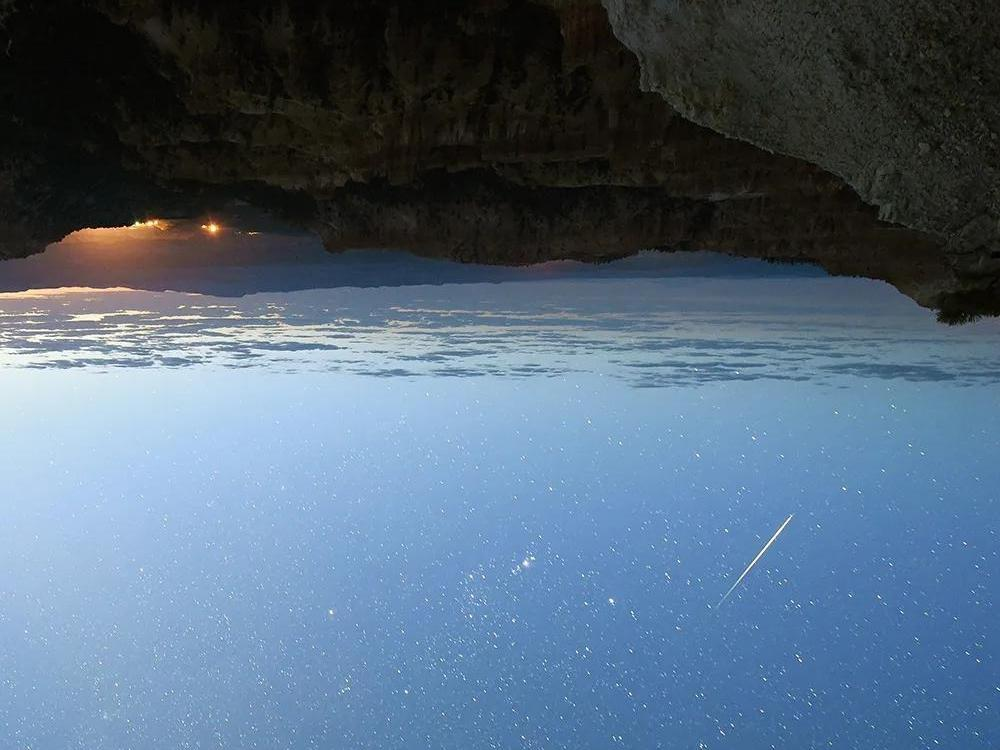meteorite: (704, 513, 814, 598)
